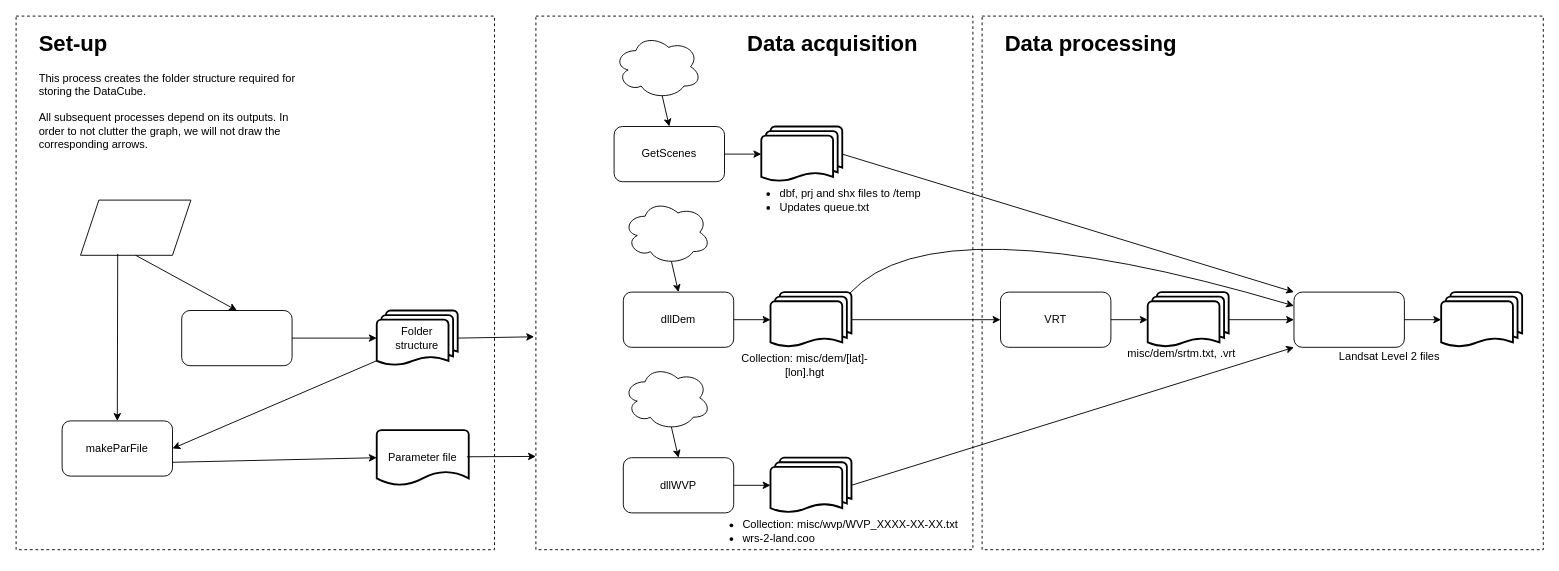
This 1559x571 diagram has some shape labels left out. Here are the shapes that lost their labels. From the top down, the centre of each, then its label:
At pixel 135 227: "Parameters".
At pixel 236 338: "setFolders".
At pixel 1348 319: "process2L2".
